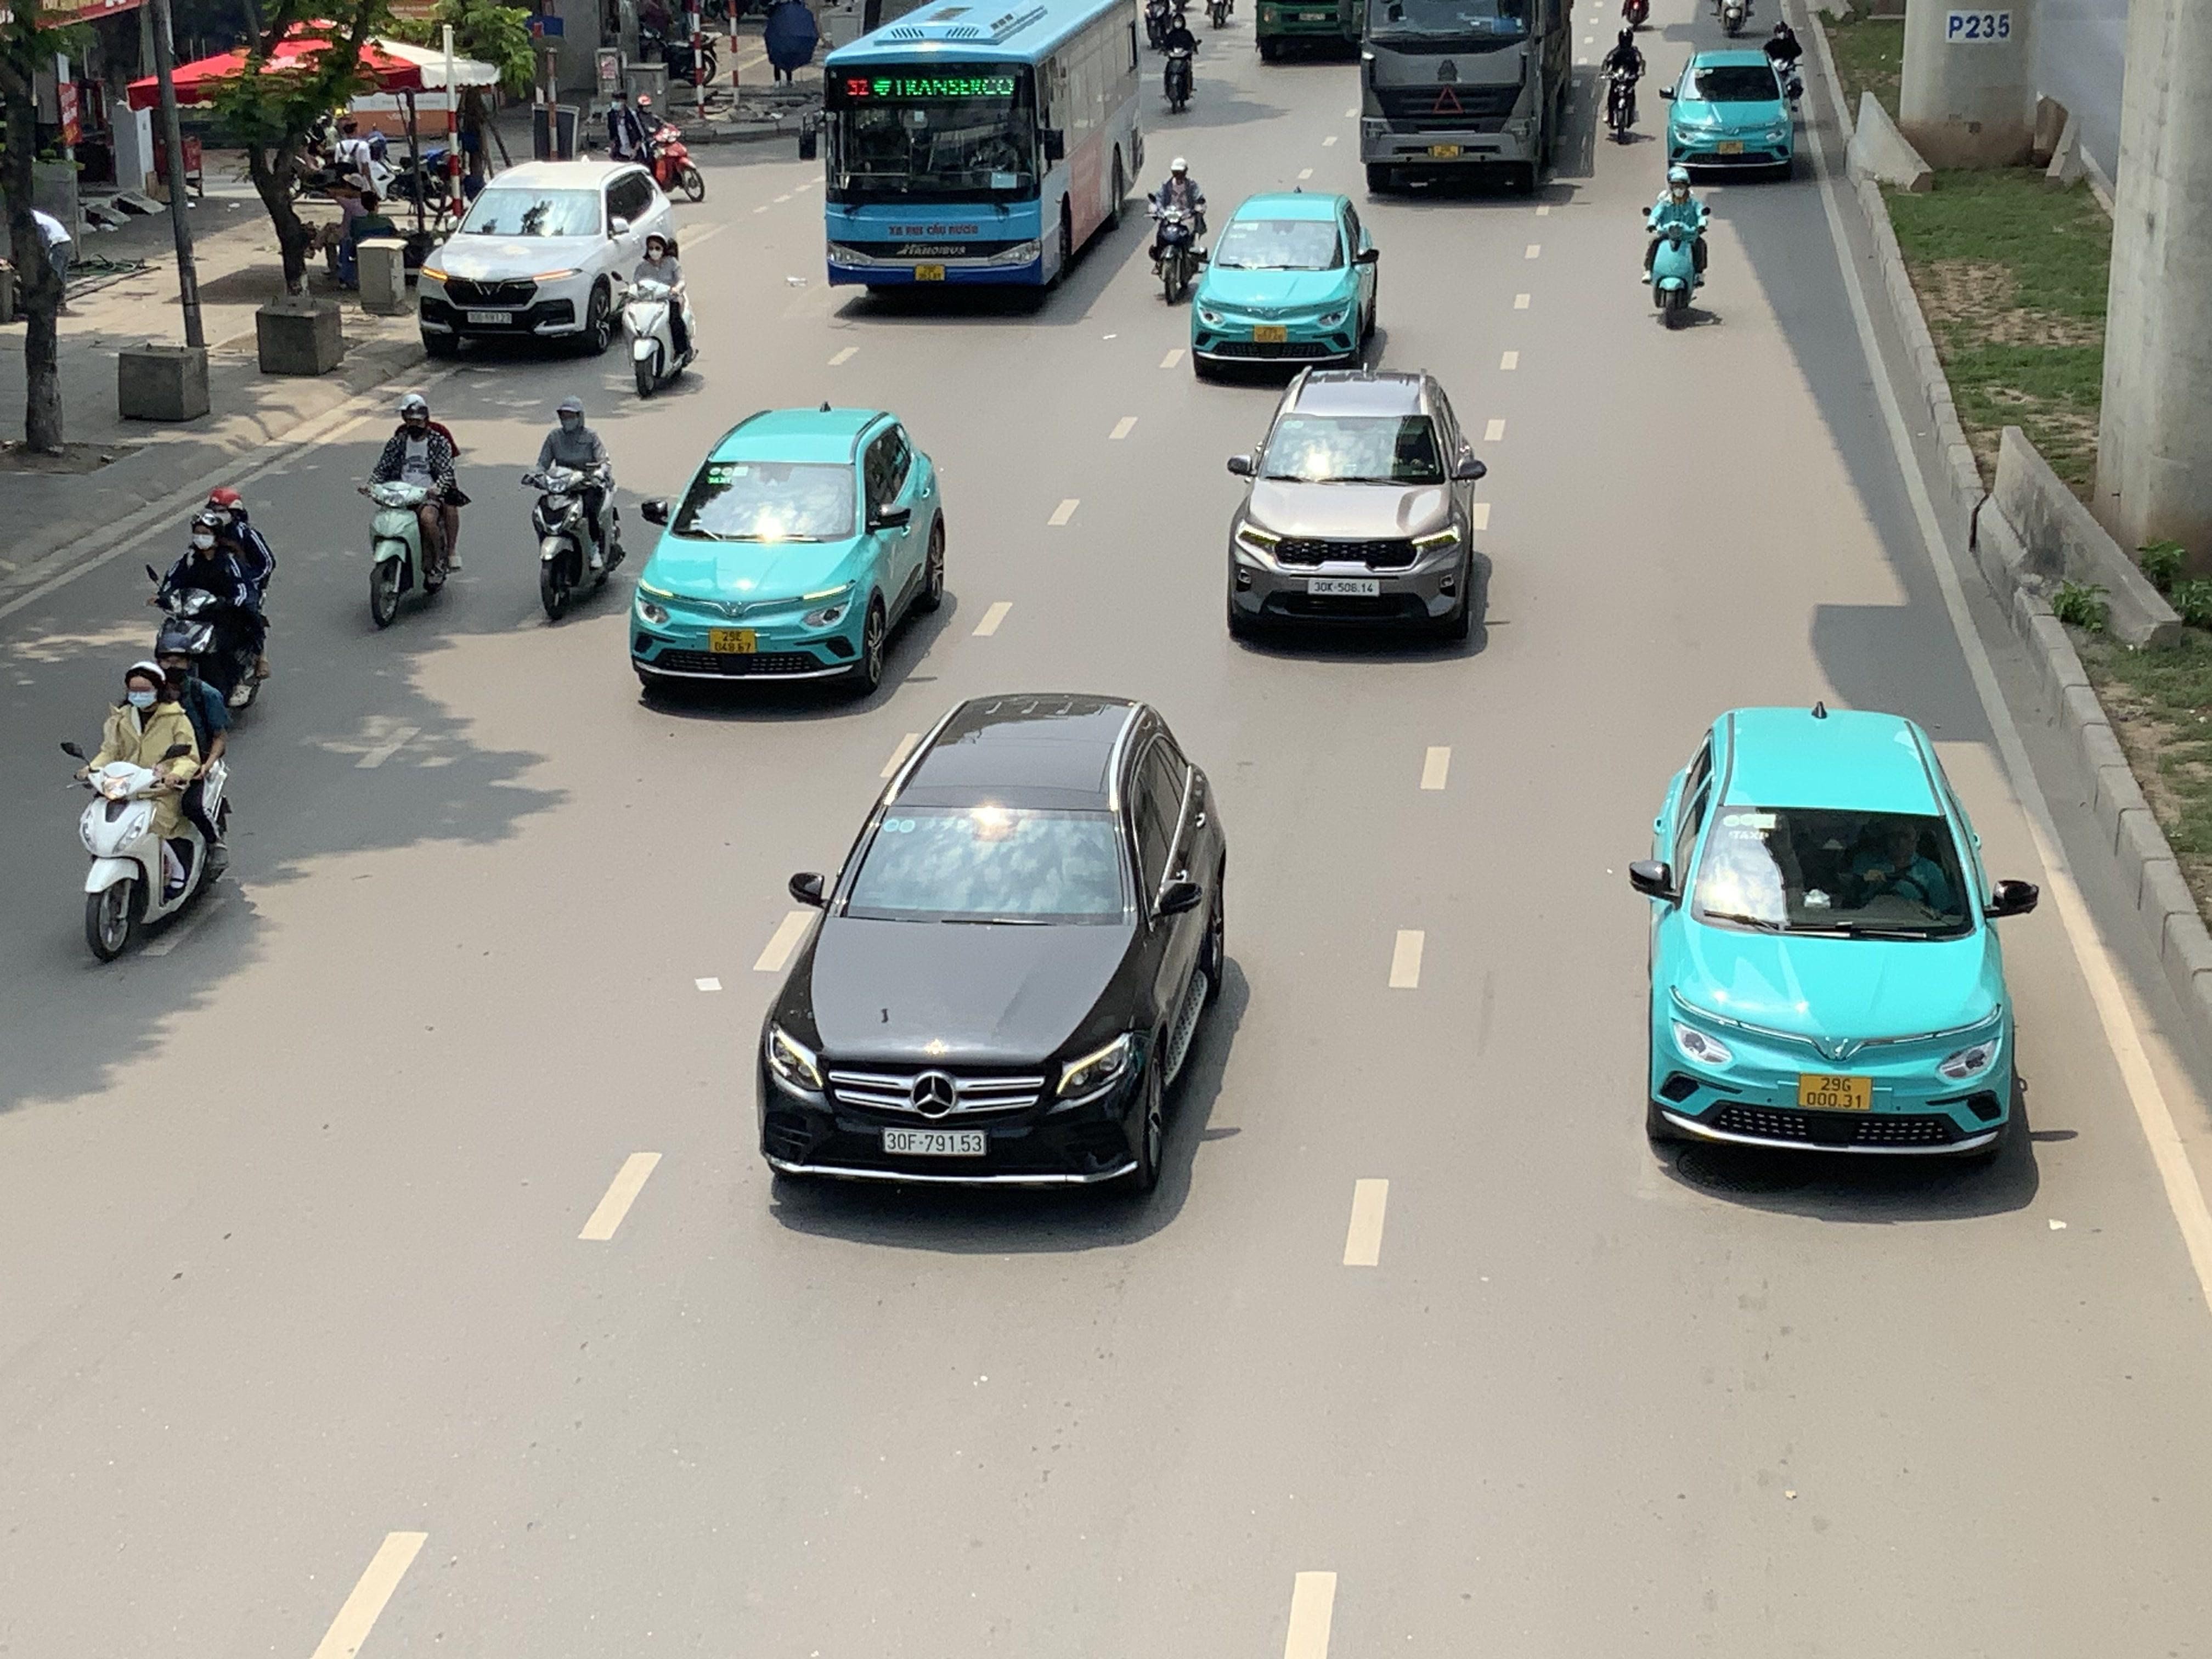BSD: (883, 1127, 986, 1157), (1308, 579, 1379, 598), (467, 310, 512, 324)
BSV: (1799, 1075, 1872, 1112), (709, 629, 756, 655)
bus: (819, 0, 1146, 307)
car: (754, 690, 1233, 1204), (1629, 706, 2041, 1173), (625, 404, 949, 701), (1223, 366, 1493, 648), (418, 159, 679, 357), (1190, 190, 1383, 378), (1660, 47, 1801, 179)
motorbike: (61, 659, 230, 964), (146, 488, 275, 718), (359, 392, 469, 629), (524, 396, 625, 626), (622, 234, 698, 399), (1641, 167, 1712, 329), (608, 91, 705, 202), (1146, 157, 1211, 305), (1597, 26, 1646, 145), (1158, 5, 1200, 115), (1763, 17, 1806, 110), (1714, 0, 1752, 38)
truck: (1355, 0, 1583, 193)
